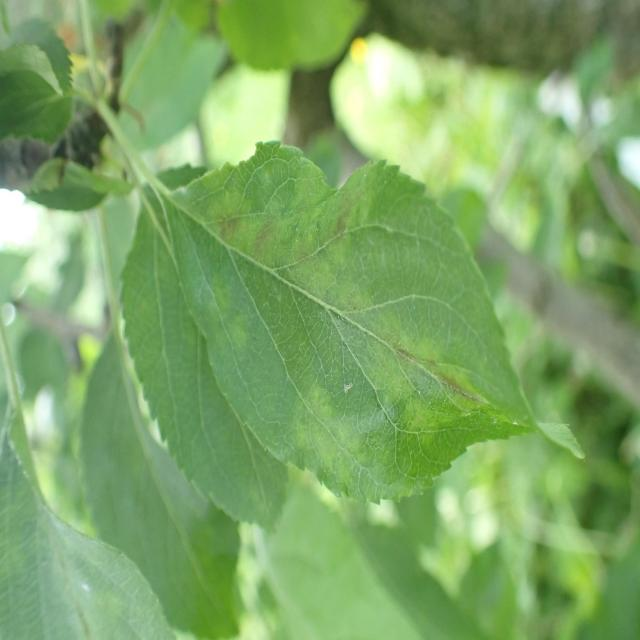scab: (166, 166, 503, 450)
